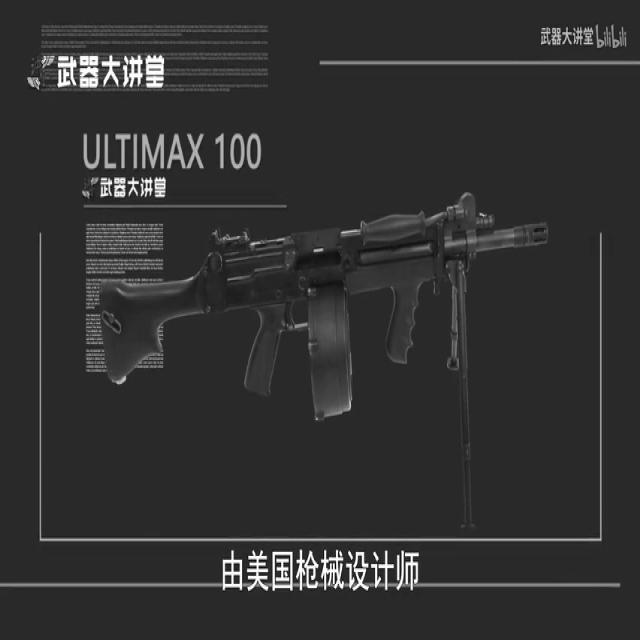Rifle: (66, 65, 560, 518)
